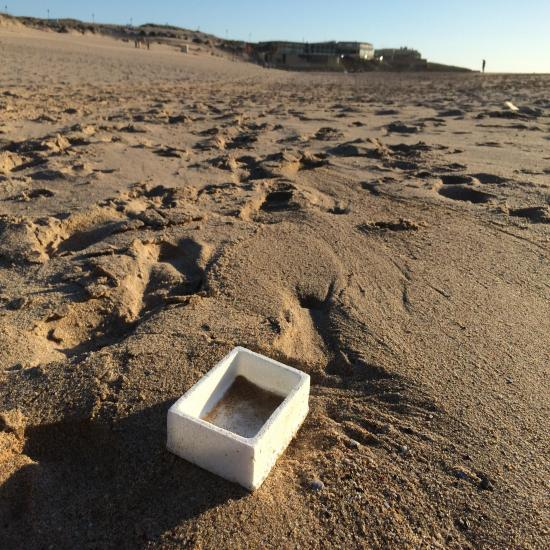Styrofoam piece: (167, 346, 310, 492)
